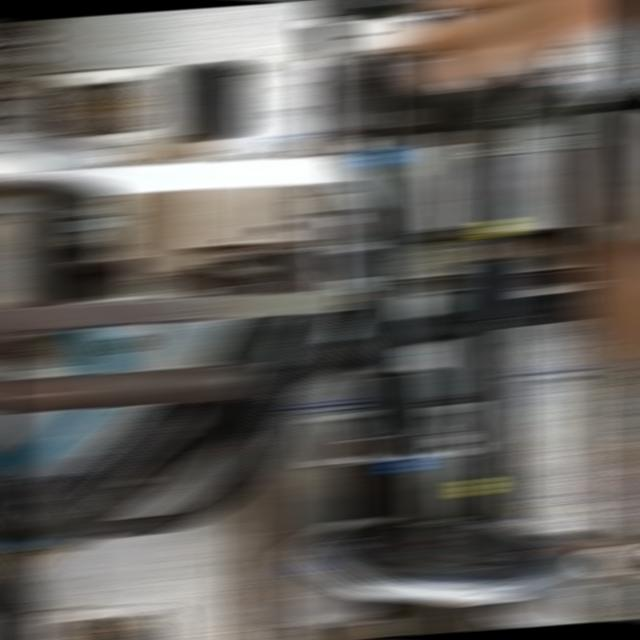blue: (361, 148, 402, 165), (388, 454, 427, 471)
yellow: (481, 219, 516, 236), (459, 478, 493, 495)
